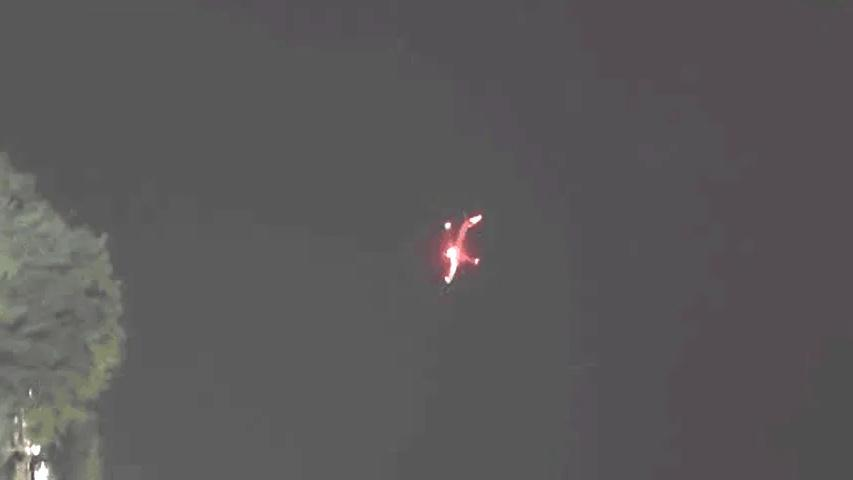Plane: (376, 180, 544, 311)
